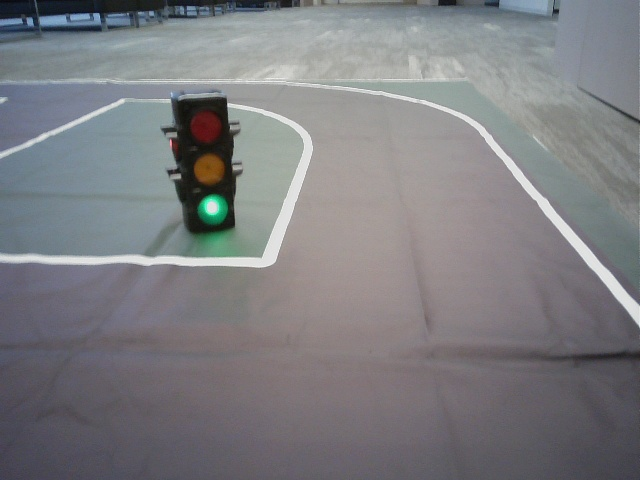green: (181, 100, 231, 227)
